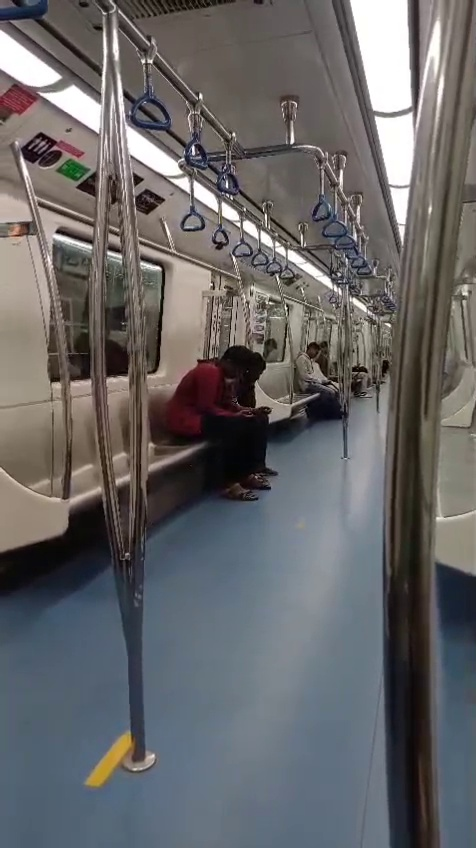occupied_seat: (9, 406, 84, 501), (86, 398, 137, 493), (139, 379, 190, 467), (253, 353, 289, 420), (451, 379, 476, 446), (443, 478, 476, 514), (296, 365, 318, 407), (444, 443, 474, 472), (447, 353, 467, 382)
